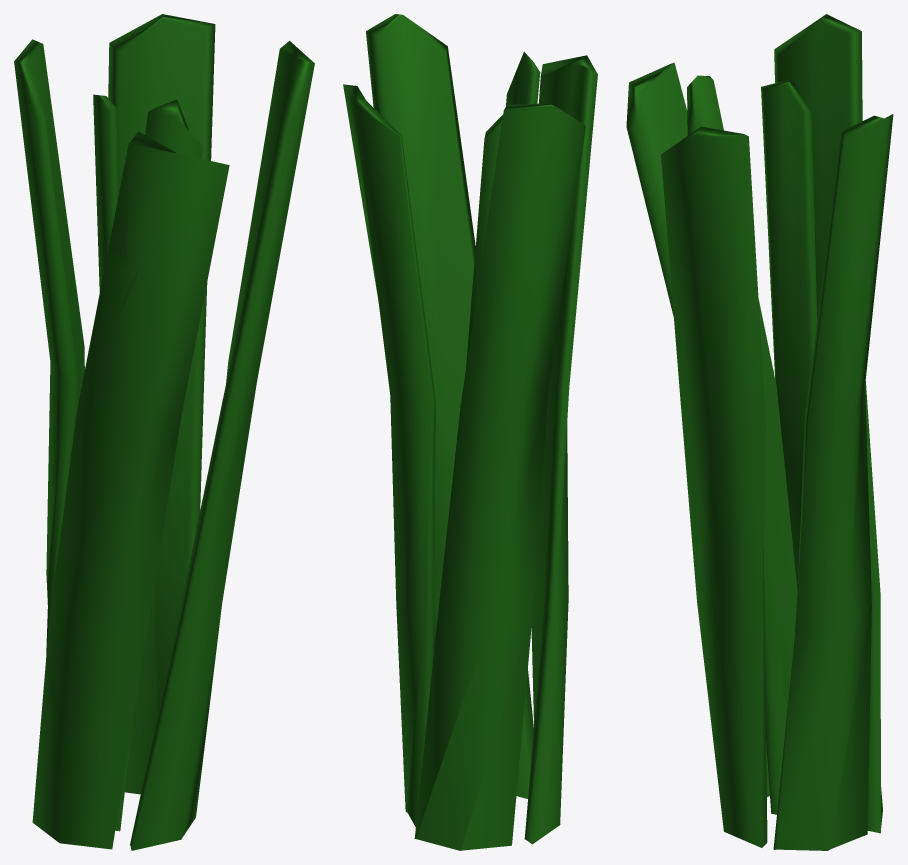
Rendered from onion1.fbx.
3 views of the same model, side by side, from view 1: azimuth 30°, elevation 25°; view 2: azimuth 150°, elevation 25°; view 3: azimuth 270°, elevation 25° (orthographic). The views are drawn at different scales.
Visible parts, largest first — view 1: GreenOnion.001; view 2: GreenOnion.001; view 3: GreenOnion.001.
Part boxes in pixels (<box>): GreenOnion.001: <box>14,14,314,850</box>; GreenOnion.001: <box>343,14,597,850</box>; GreenOnion.001: <box>626,14,893,850</box>.
Size of the model in its own units: 70.38 by 214 by 68.07.
